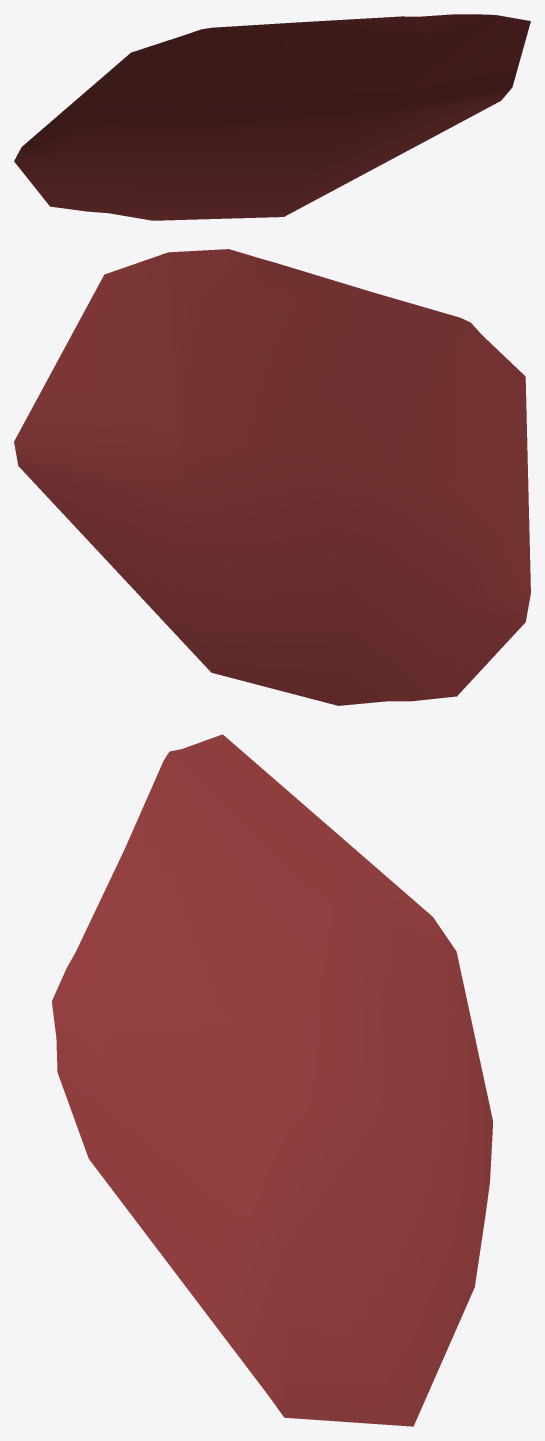
The model's file is longissimus-thoracis-muscle-e20r.glb.
3 renders of one model, top to bottom at view 1: azimuth 30°, elevation 25°; view 2: azimuth 150°, elevation 25°; view 3: azimuth 270°, elevation 25°, orthographic. The views are drawn at different scales.
Parts seen in each view (by area): view 1: Longissimus thoracis muscle.e20r; view 2: Longissimus thoracis muscle.e20r; view 3: Longissimus thoracis muscle.e20r.
Part boxes in pixels (x1,y1,x2,y2): Longissimus thoracis muscle.e20r: [14, 14, 530, 220]; Longissimus thoracis muscle.e20r: [14, 249, 530, 705]; Longissimus thoracis muscle.e20r: [52, 734, 493, 1426].
Size of the model in its own units: 0.00657 by 0.00372 by 0.00278.
